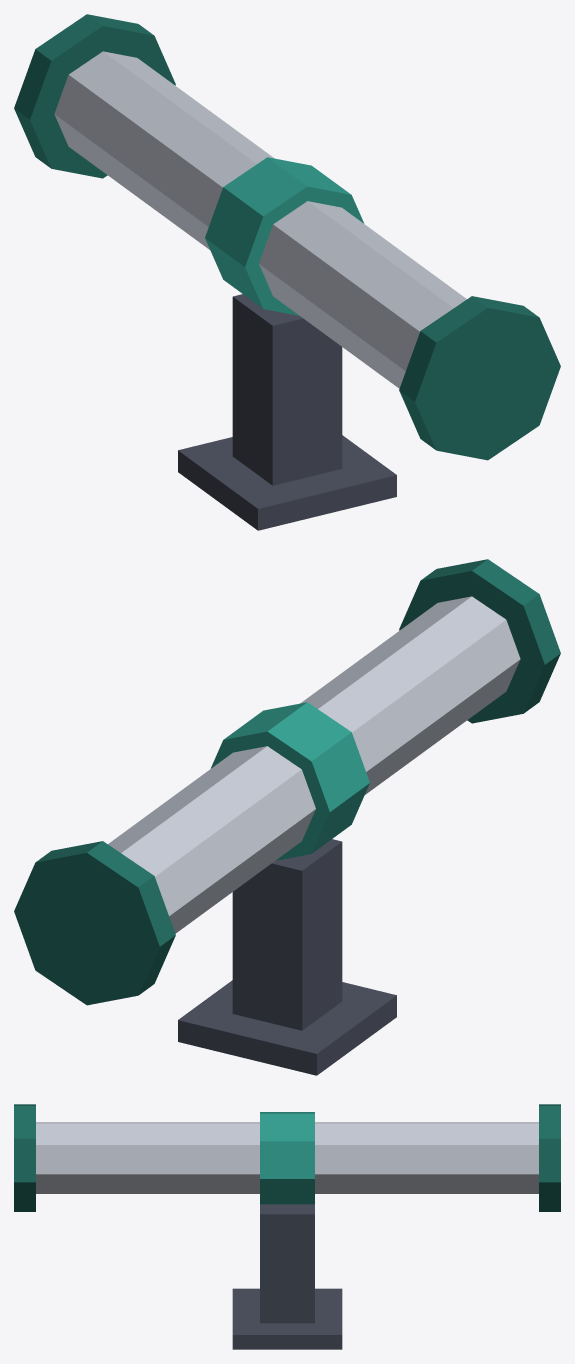
Rendered from pipe-straight.glb.
The picture shows the model from 3 angles, top to bottom: view 1: azimuth 30°, elevation 25°; view 2: azimuth 150°, elevation 25°; view 3: azimuth 270°, elevation 25°; orthographic projection. The views are drawn at different scales.
Parts seen in each view (by area): view 1: pipe-straight; view 2: pipe-straight; view 3: pipe-straight.
Part boxes in pixels (<box>): pipe-straight: <box>14,14,560,530</box>; pipe-straight: <box>14,559,560,1075</box>; pipe-straight: <box>14,1104,560,1349</box>.
Size of the model in its own units: 0.21 by 0.445 by 1.
1 material, 1 textured.
